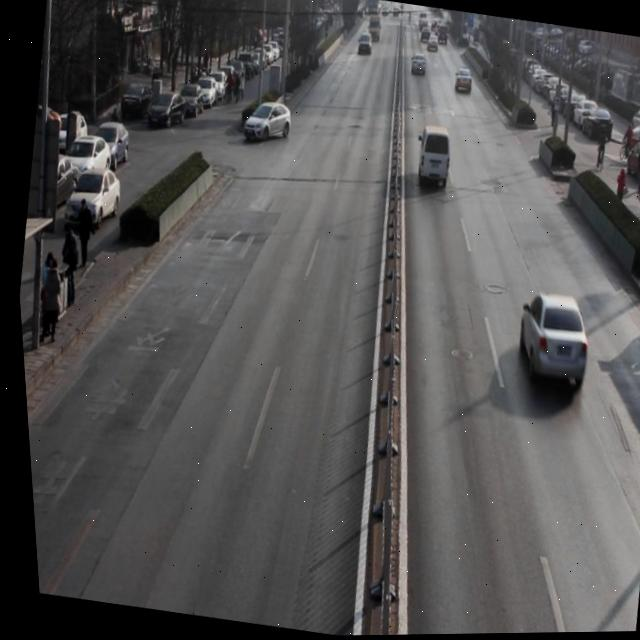car: (504, 290, 595, 400), (238, 95, 295, 147), (449, 68, 476, 105), (406, 57, 428, 81), (353, 35, 374, 60)
truck: (408, 124, 455, 195)
